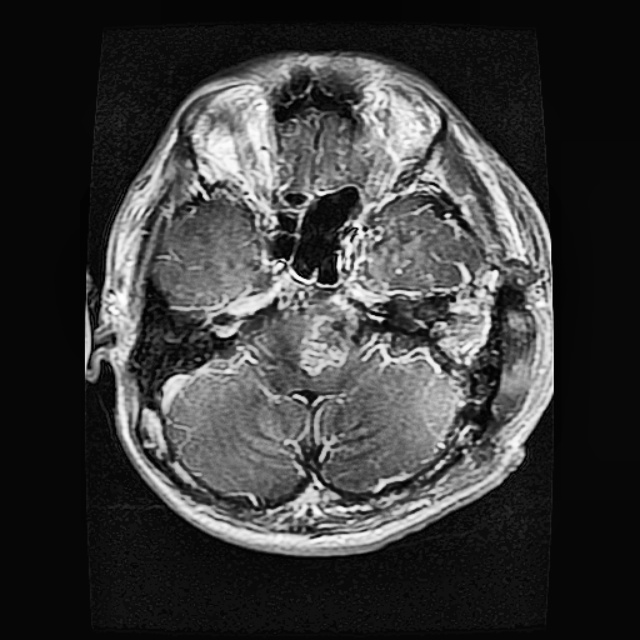Pituitary: (297, 313, 348, 374)
